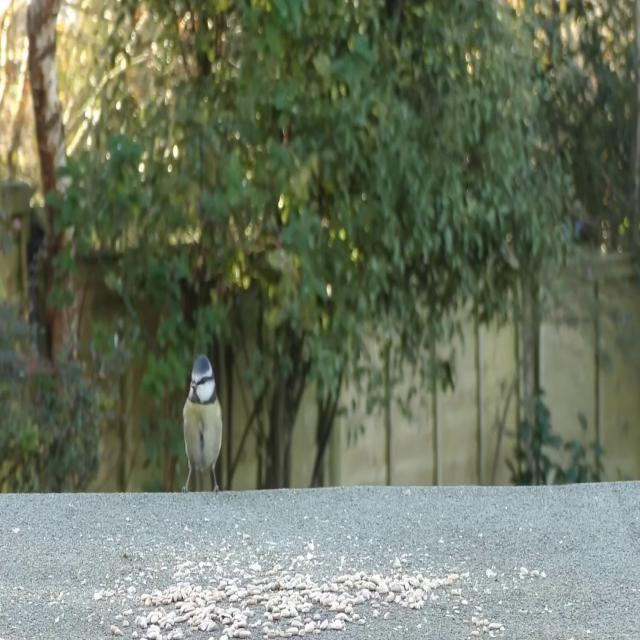beak: (191, 378, 198, 392)
bird: (177, 356, 232, 496)
